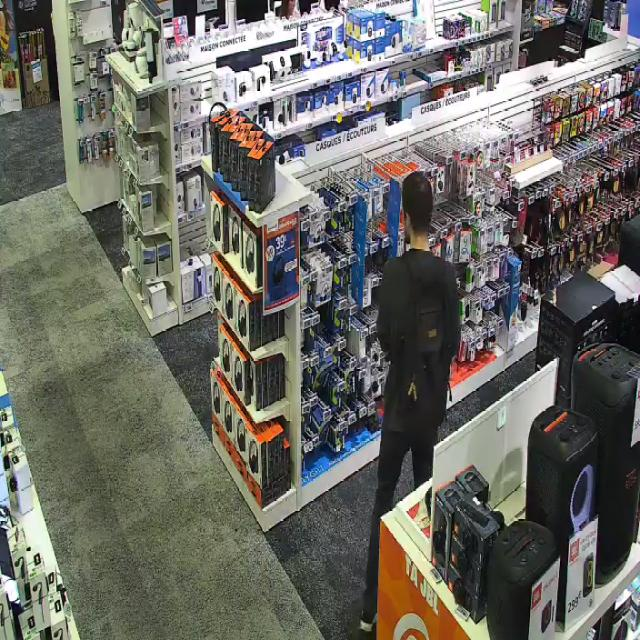person: (357, 172, 460, 639)
